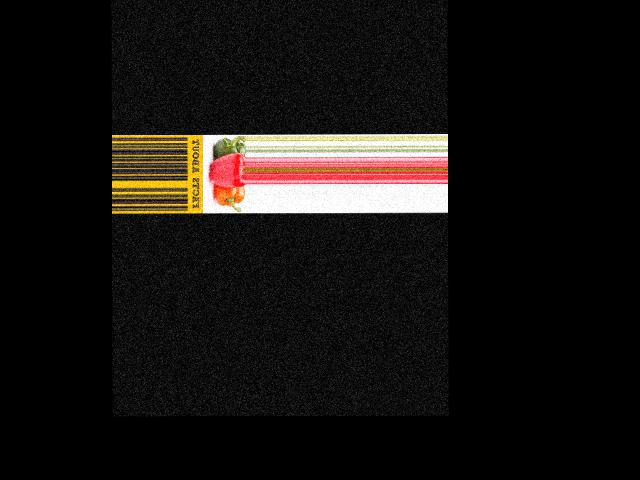bell_pepper: (208, 135, 245, 155)
